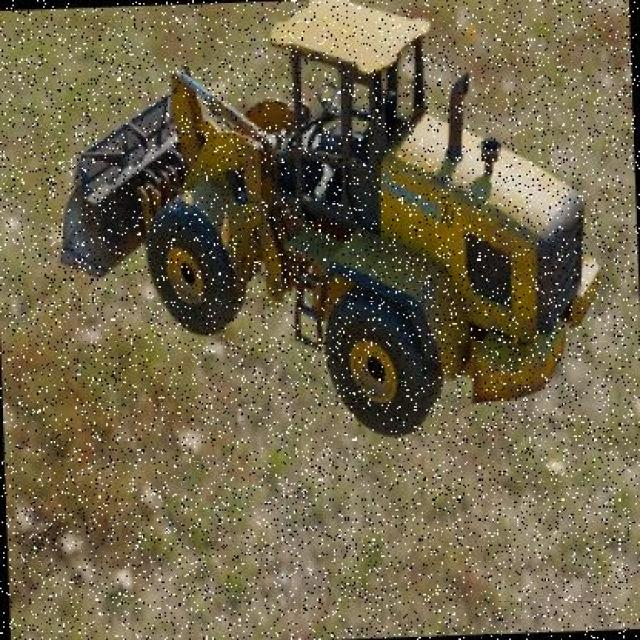buldozerpayloadergrader: (48, 0, 606, 451)
